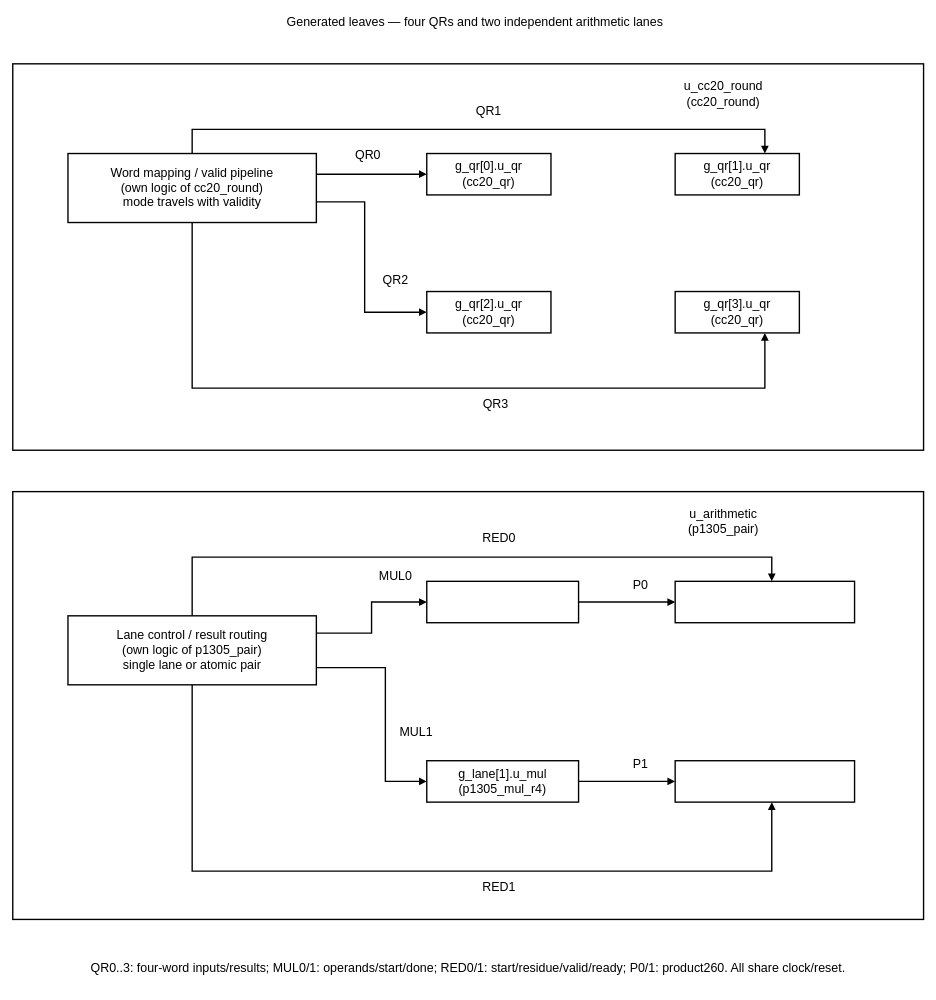
The diagram is 936 pixels wide and 1000 high, and some of its shapes have lost their labels. The shapes that lost their labels are listed below. From the top down, each one's centre as x and y in pixels, then its label:
the point at 502,601: g_lane[0].u_mul (p1305_mul_r4)
the point at 764,601: g_lane[0].u_reduce (p1305_reduce)
the point at 764,781: g_lane[1].u_reduce (p1305_reduce)
